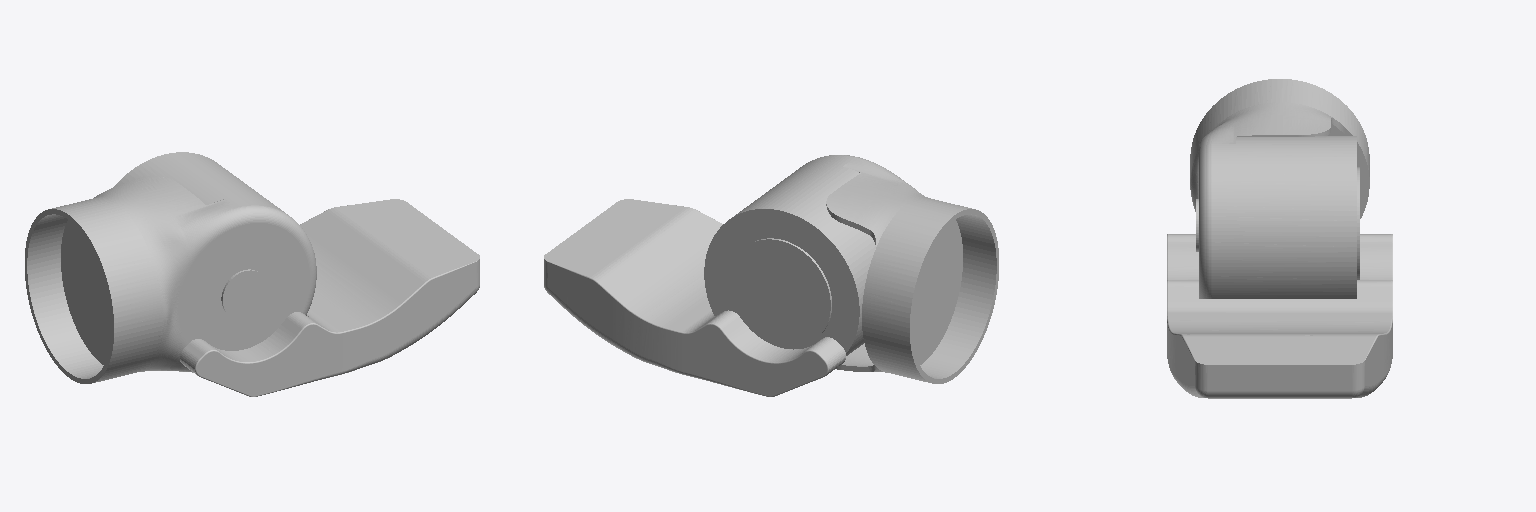
Rendered from z1_GripperStator.obj.
3 renders of one model, left to right at view 1: azimuth 30°, elevation 25°; view 2: azimuth 150°, elevation 25°; view 3: azimuth 270°, elevation 25°, orthographic.
Parts seen in each view (by area): view 1: off; view 2: off; view 3: off.
Part boxes in pixels (bbox=[...]): off: bbox=[25, 152, 479, 396]; off: bbox=[544, 155, 998, 396]; off: bbox=[1167, 79, 1392, 398].
Size of the model in its own units: 0.156 by 0.0688 by 0.082.